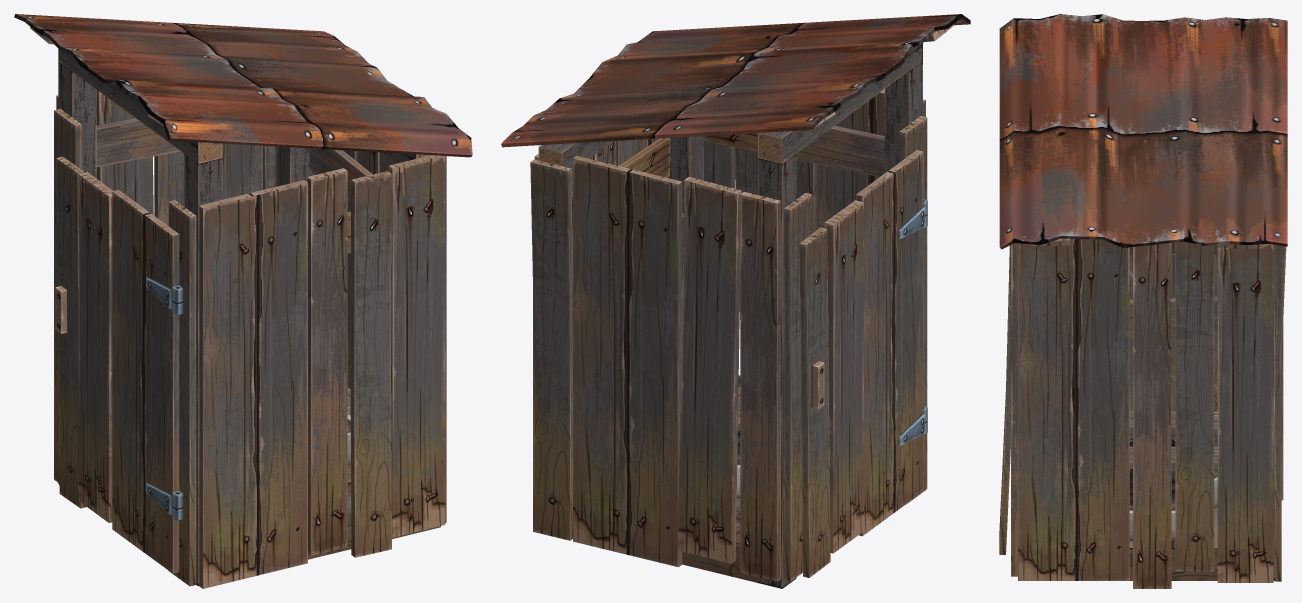
Rendered from outhouse.FBX.
3 renders of one model, left to right at view 1: azimuth 30°, elevation 25°; view 2: azimuth 150°, elevation 25°; view 3: azimuth 270°, elevation 25°, orthographic. The views are drawn at different scales.
Visible parts, largest first — view 1: outhouse, outhouse_door, outhouse_roof; view 2: outhouse, outhouse_door, outhouse_roof; view 3: outhouse, outhouse_roof, outhouse_door.
Boxes of the visible parts, box(x1,y1,x2,y2) form: outhouse: box(54, 49, 446, 588); outhouse_door: box(55, 156, 179, 573); outhouse_roof: box(14, 14, 472, 157); outhouse: box(530, 43, 927, 588); outhouse_door: box(799, 150, 924, 577); outhouse_roof: box(501, 14, 970, 147); outhouse: box(999, 239, 1286, 588); outhouse_roof: box(999, 14, 1287, 249); outhouse_door: box(1129, 255, 1217, 446).
Bounding box in the file's own units: 193 × 285 × 168.
